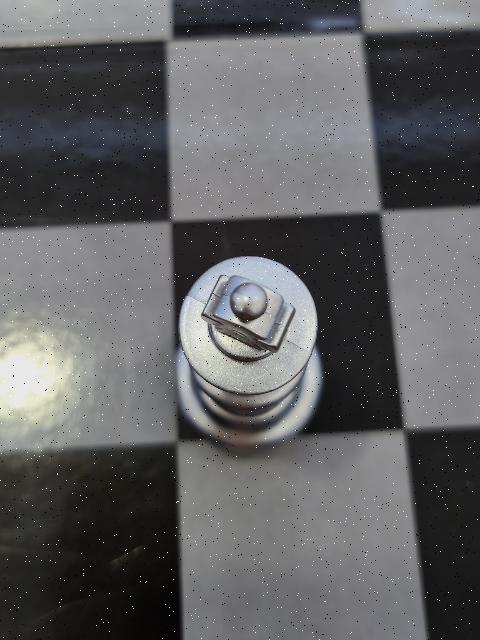white_king: (178, 253, 324, 451)
